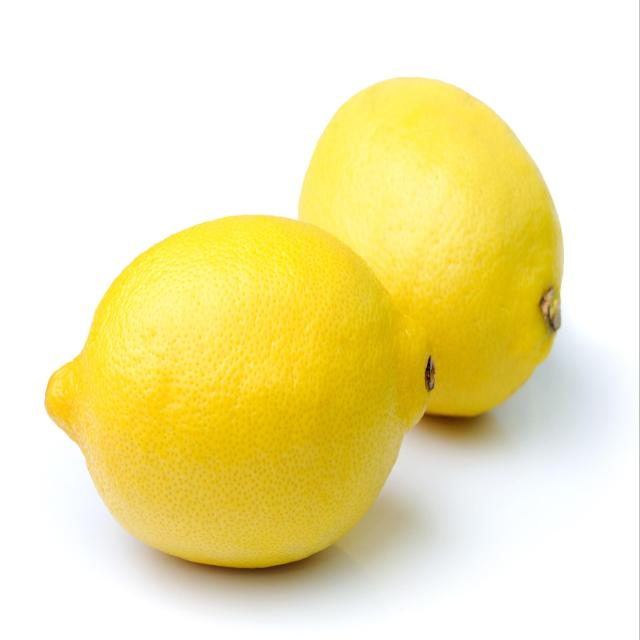lemon: (38, 206, 438, 580)
